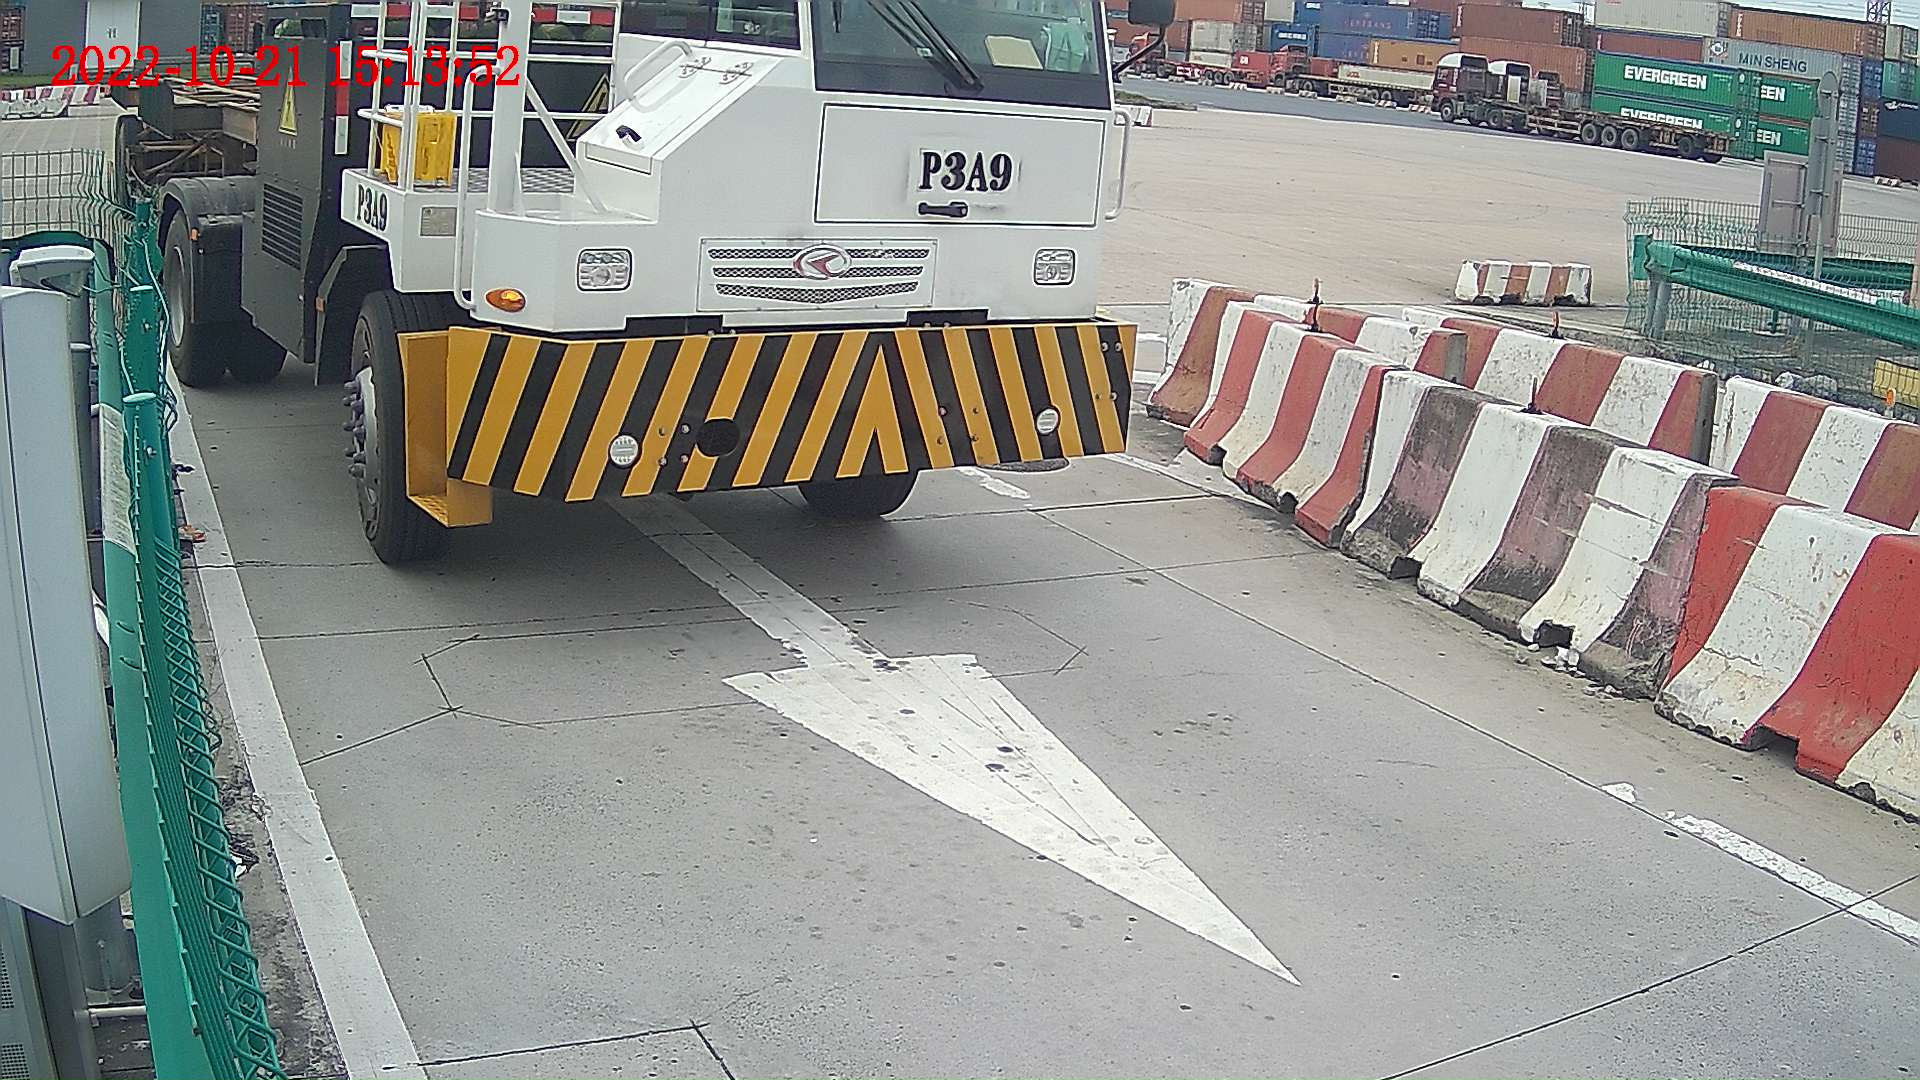head: (354, 1, 1135, 564)
